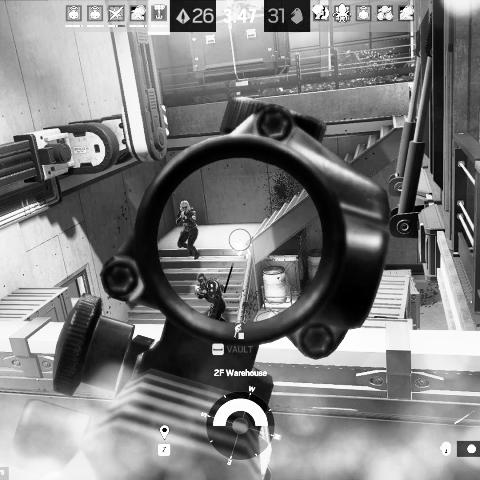Character: (193, 272, 227, 322), (174, 200, 201, 262)
Head: (180, 200, 190, 213), (197, 272, 206, 285)
